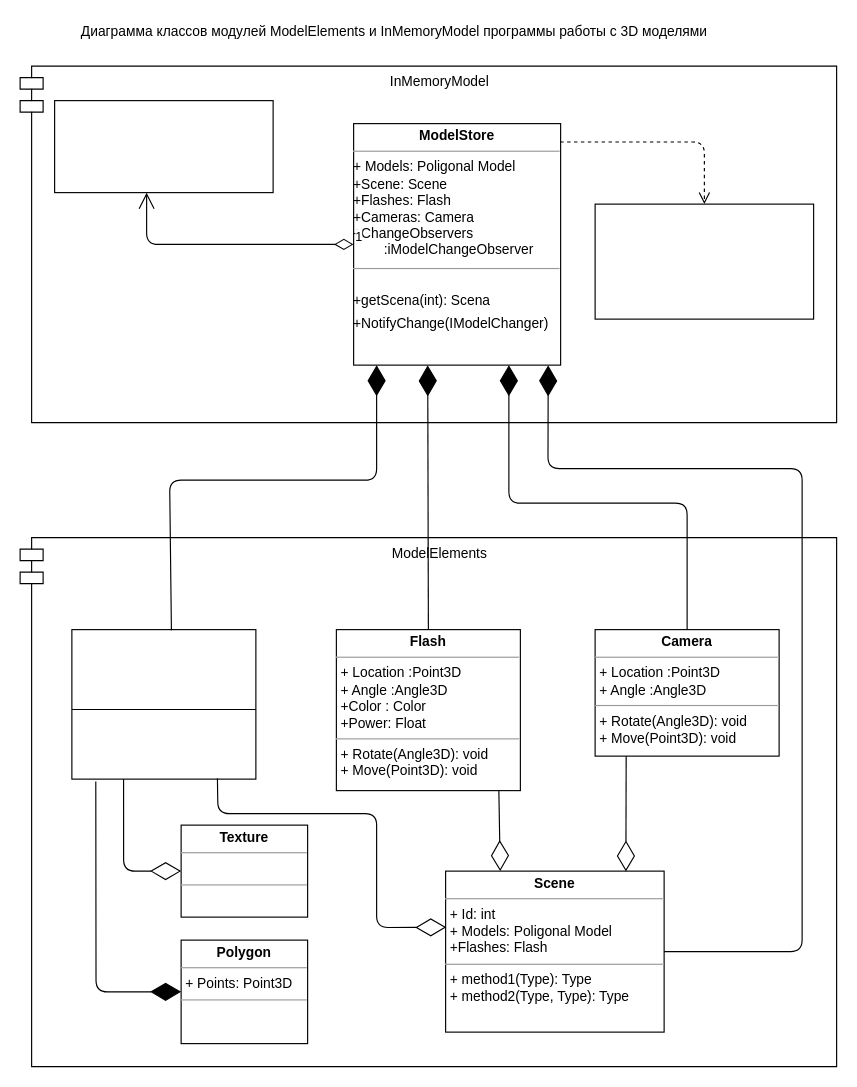
Some shapes in this 857 by 1087 pixel diagram are drawn without their labels. The shapes that lost their labels are listed below. From the top down, each one's centre as x and y in pixels, then its label:
At point (163, 146): "<<Interface>> iModelChangedObserver + ApplyUpdateModel()".
At point (704, 261): "<<Interface>> IModelChanger +NotifyChange (IModelChangerSender)".
At point (163, 703): "PoligonalModel + Poligons :Poligon + Textures :Texture".
